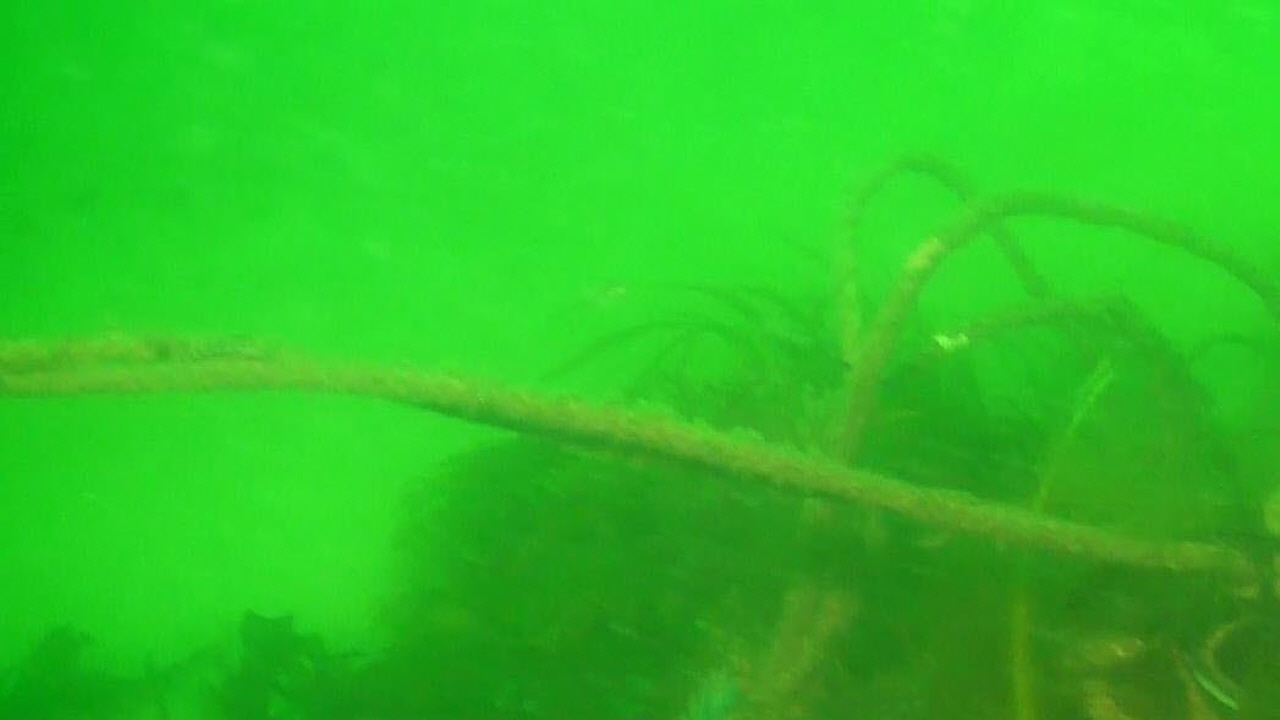rope: (0, 335, 1280, 576)
